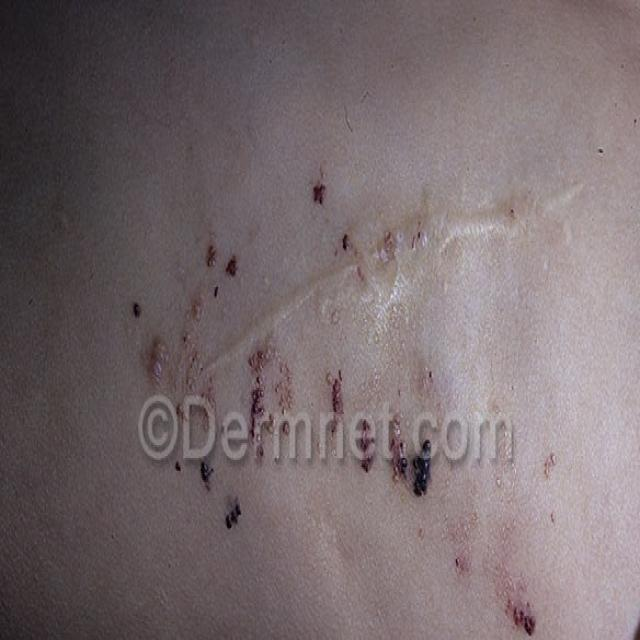Vascular Tumors: (99, 174, 585, 640)
